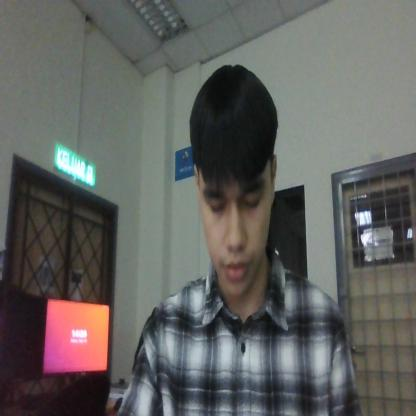Closed-Eyes: (202, 179, 270, 224)
